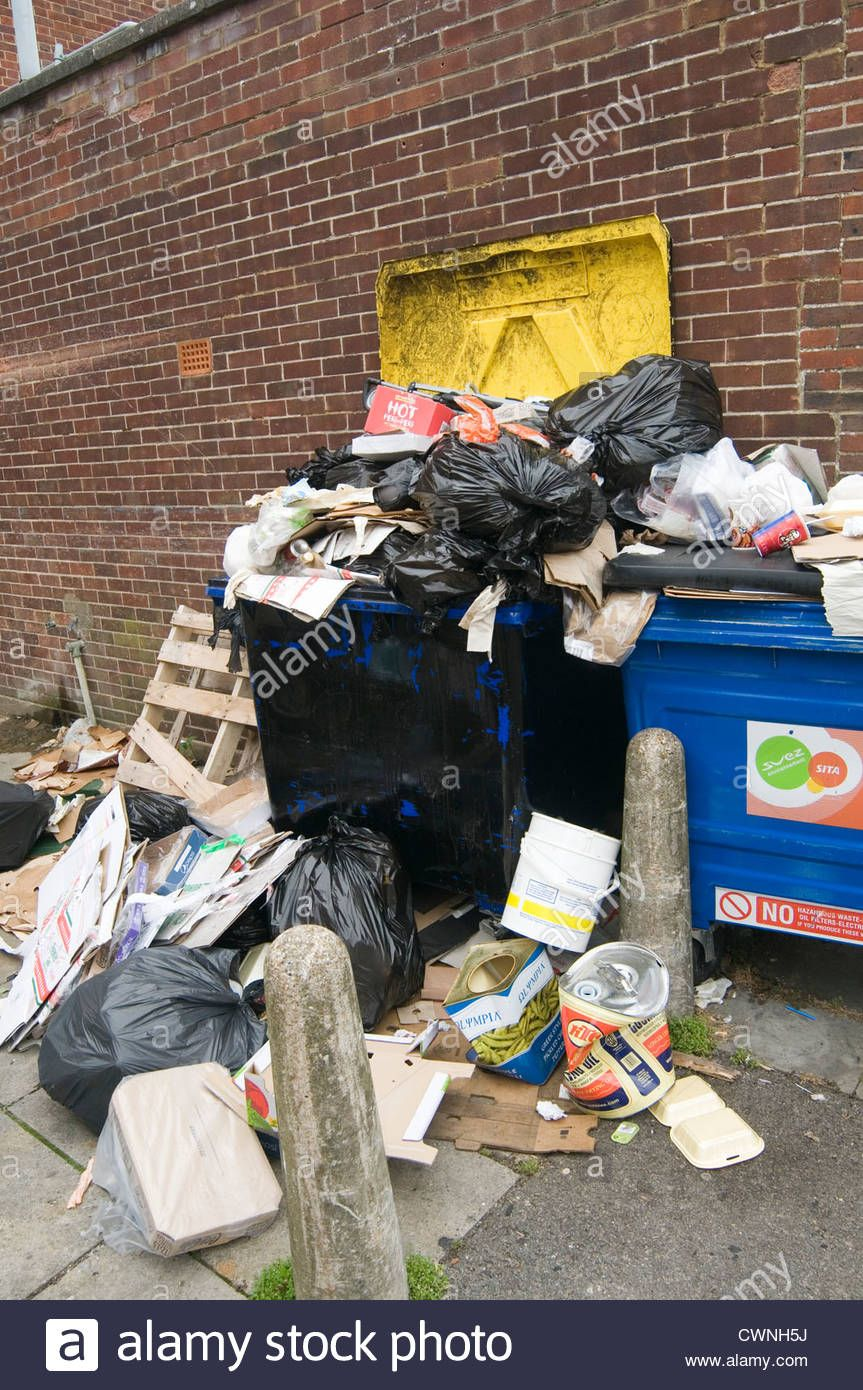Dumpster: (238, 225, 863, 978)
